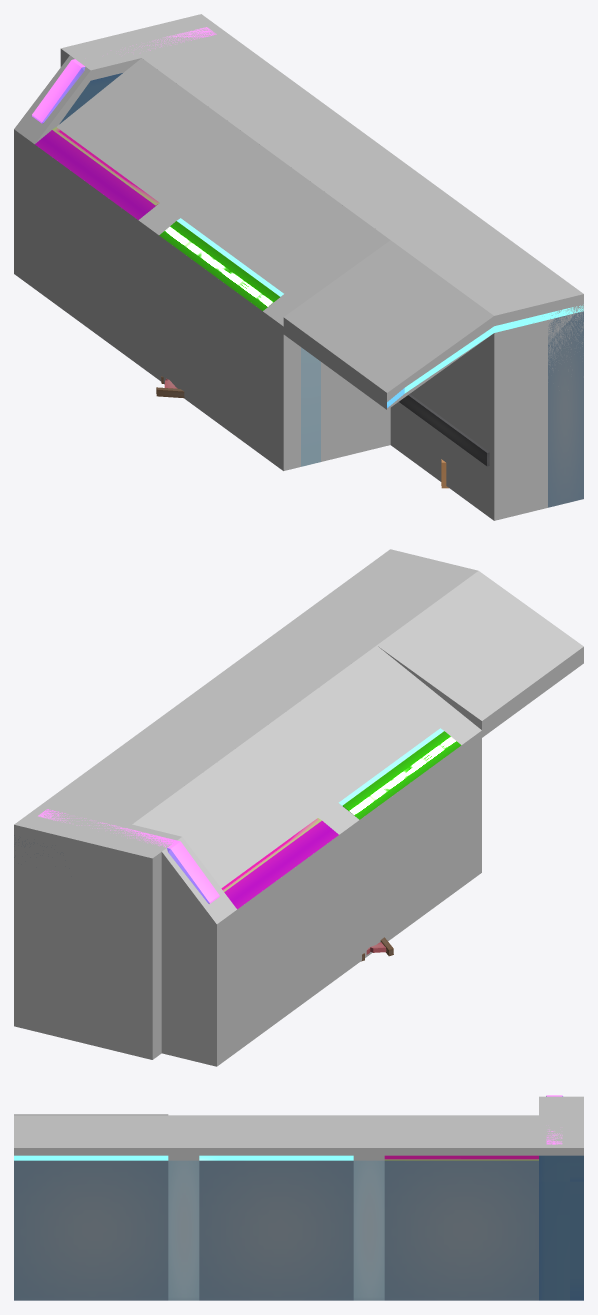
File: SM_Abandoned_Market.fbx
The picture shows the model from 3 angles, top to bottom: view 1: azimuth 30°, elevation 25°; view 2: azimuth 150°, elevation 25°; view 3: azimuth 270°, elevation 25°; orthographic projection. The views are drawn at different scales.
Visible parts, largest first — view 1: SM_Abandoned_Market_ConvexHulls, SM_Abandoned_Market; view 2: SM_Abandoned_Market_ConvexHulls, SM_Abandoned_Market; view 3: SM_Abandoned_Market, SM_Abandoned_Market_ConvexHulls.
Boxes of the visible parts, <box> form: SM_Abandoned_Market_ConvexHulls: <box>14,14,583,520</box>; SM_Abandoned_Market: <box>32,27,583,507</box>; SM_Abandoned_Market_ConvexHulls: <box>14,549,583,1066</box>; SM_Abandoned_Market: <box>14,728,461,961</box>; SM_Abandoned_Market: <box>14,1095,583,1300</box>; SM_Abandoned_Market_ConvexHulls: <box>14,1096,583,1160</box>.
Size of the model in its own units: 414 by 1274 by 389.
Materials: 2 (1 with a texture image).
